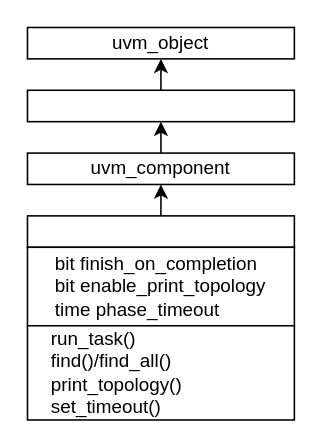
This 322x447 diagram has some shape labels left out. Here are the shapes that lost their labels. From the top down, the centre of each, then its label:
the point at 160,105: uvm_report_object
the point at 160,230: uvm_root
